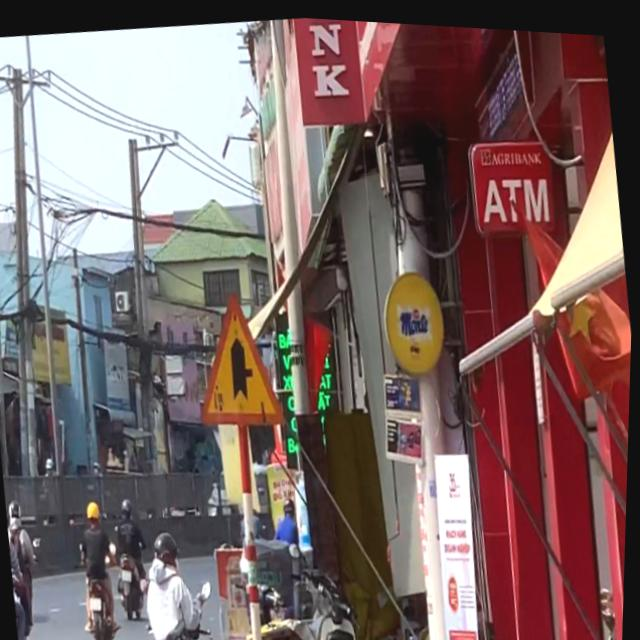Giao nhau voi duong khong uu tien ben phai: (184, 276, 294, 437)
